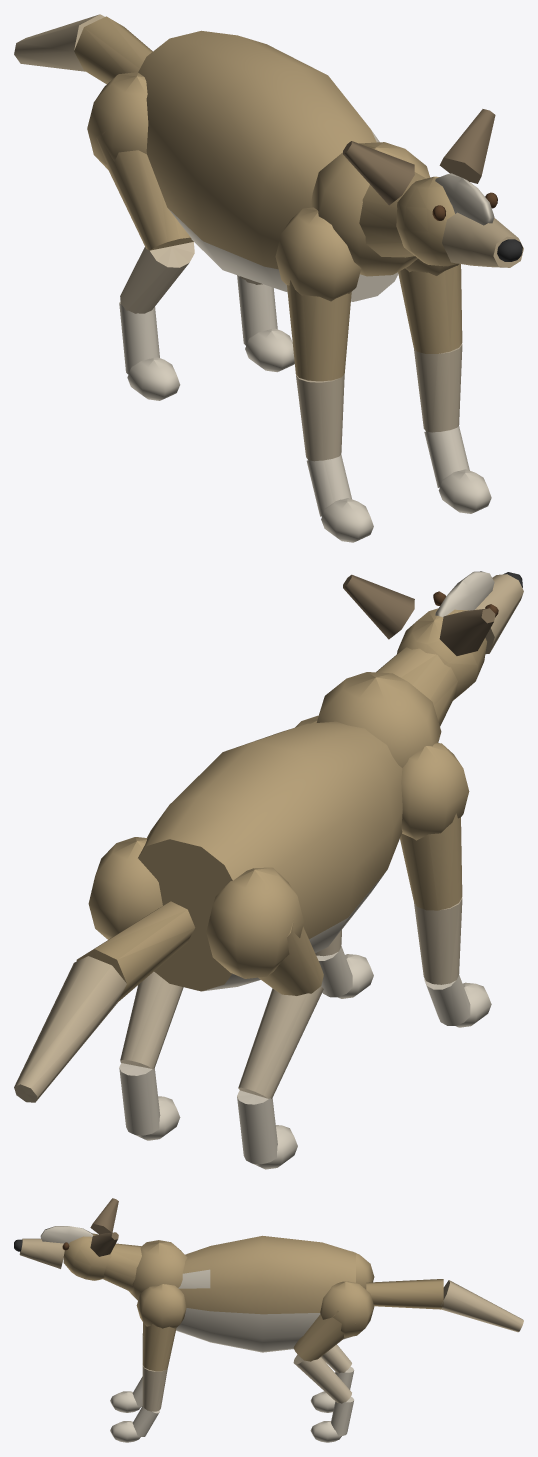
The model's file is lost_dog_a.glb.
The picture shows the model from 3 angles, top to bottom: view 1: azimuth 30°, elevation 25°; view 2: azimuth 150°, elevation 25°; view 3: azimuth 270°, elevation 25°; orthographic projection. The views are drawn at different scales.
Parts seen in each view (by area): view 1: body; view 2: body; view 3: body.
Part boxes in pixels (x1,y1,x2,y2): body: [14, 14, 523, 542]; body: [14, 571, 523, 1169]; body: [14, 1198, 523, 1442].
Size of the model in its own units: 0.3348 by 0.6614 by 1.45.
